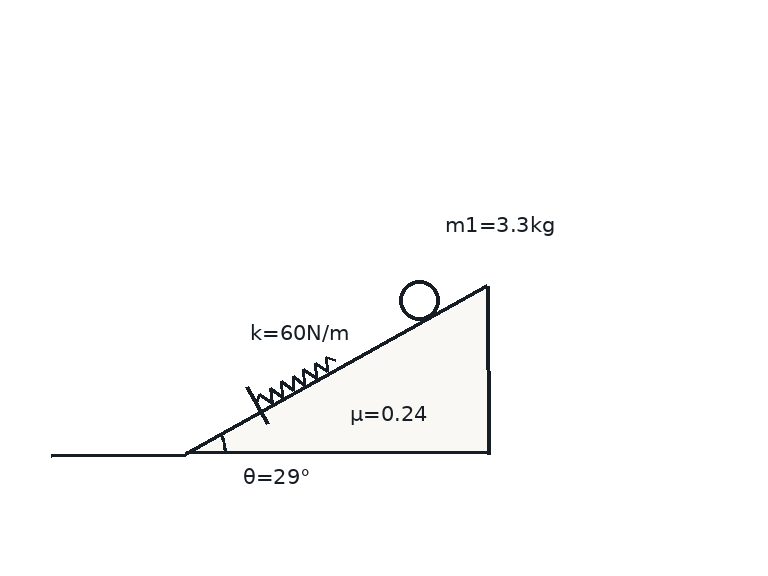ball: (397, 278, 441, 322)
ramp: (183, 283, 490, 455)
spring: (254, 355, 337, 405)
